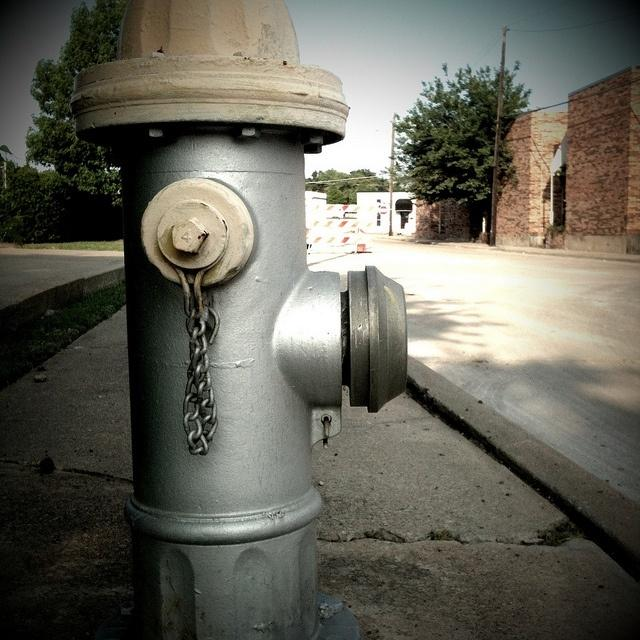fire_hydrant: (17, 5, 515, 640)
